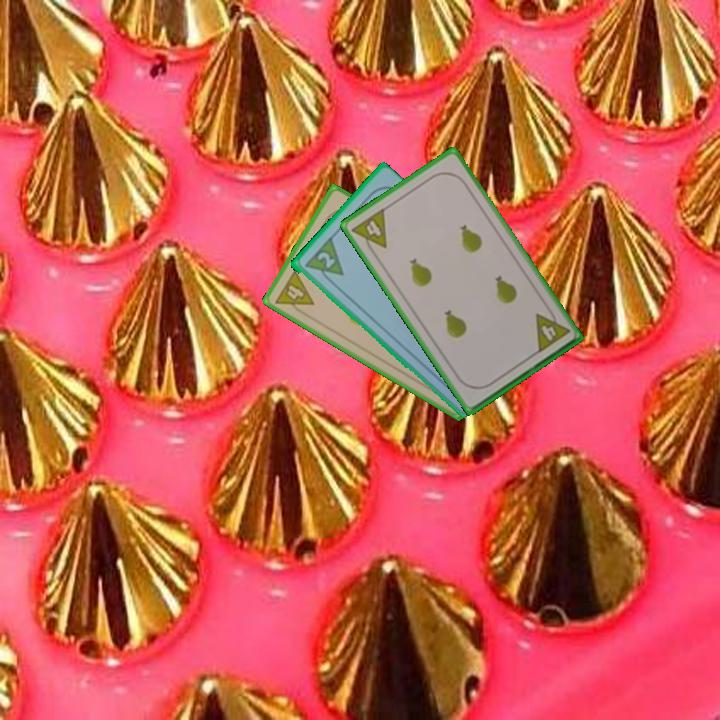2p: (301, 235, 346, 288)
4p: (271, 266, 317, 319), (348, 205, 390, 258), (531, 304, 573, 356)
